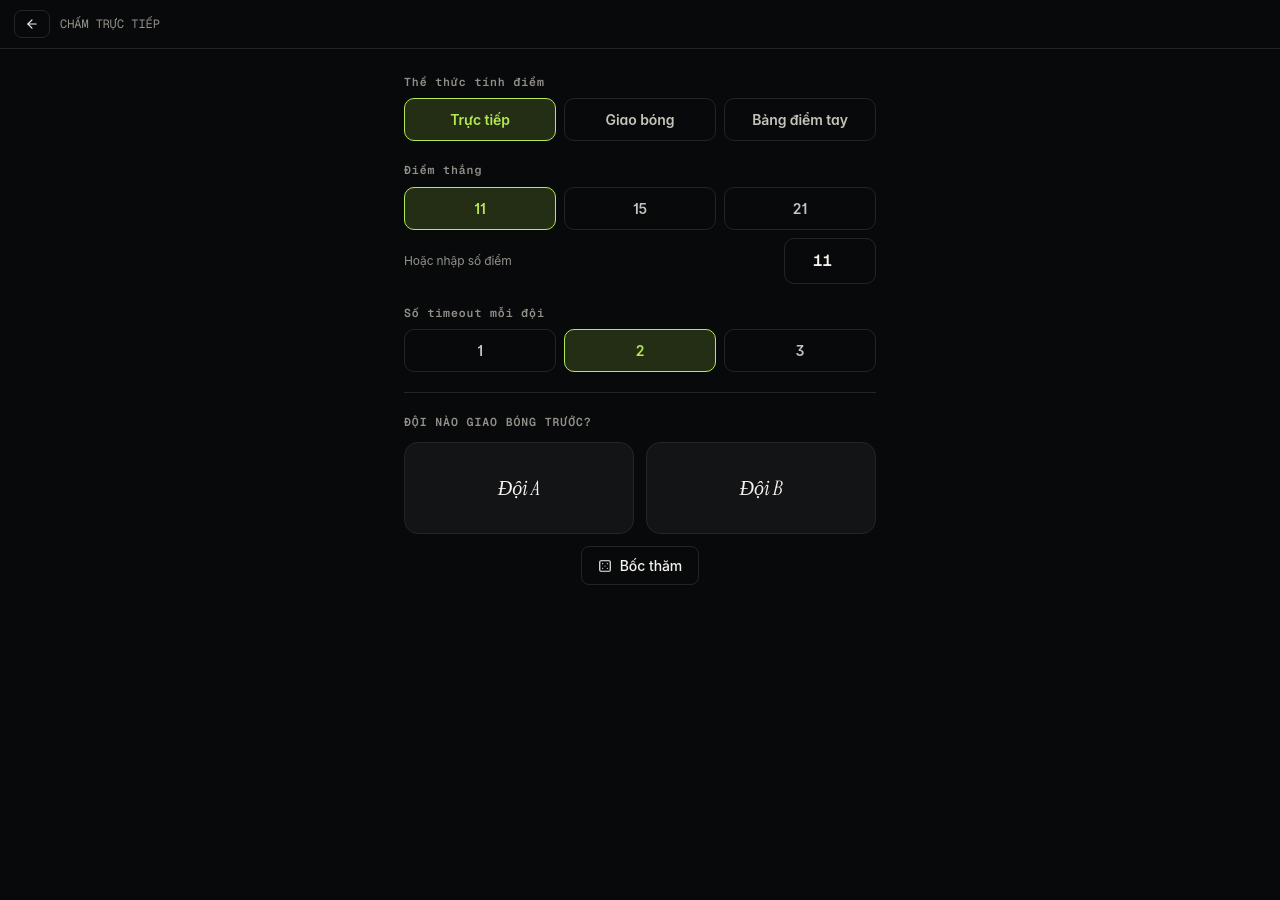
Scenario: RefereeScoringScreen › bắt đầu trận: chọn đội giao rồi BẮT ĐẦU thì claim live rồi mới ghi điểm
Later steps or results of the test are not shown.
Click the button "Đội A".
click(519, 488)  # box [404,442,634,534]
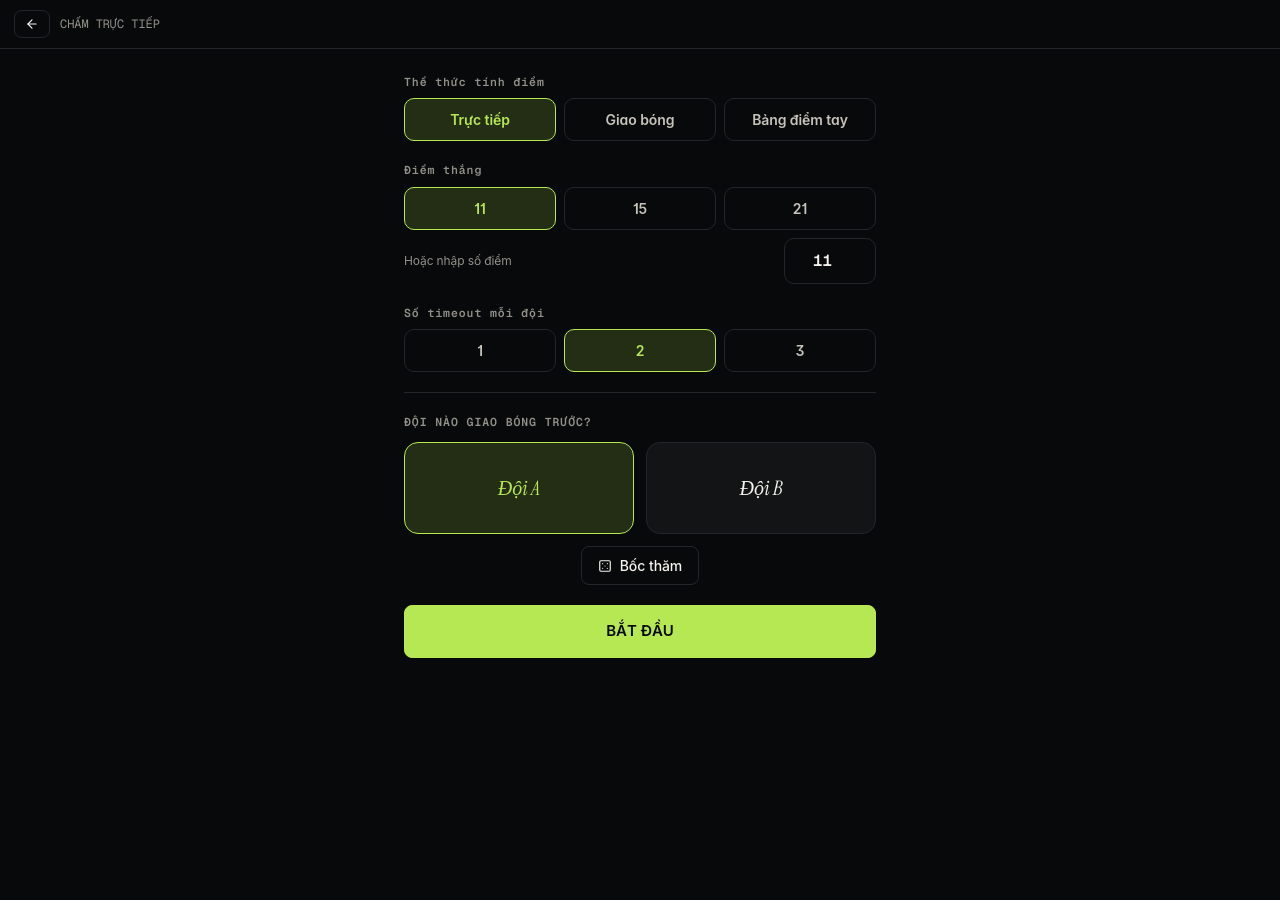
Click the button "BẮT ĐẦU".
click(640, 631)  # box [404,605,876,658]
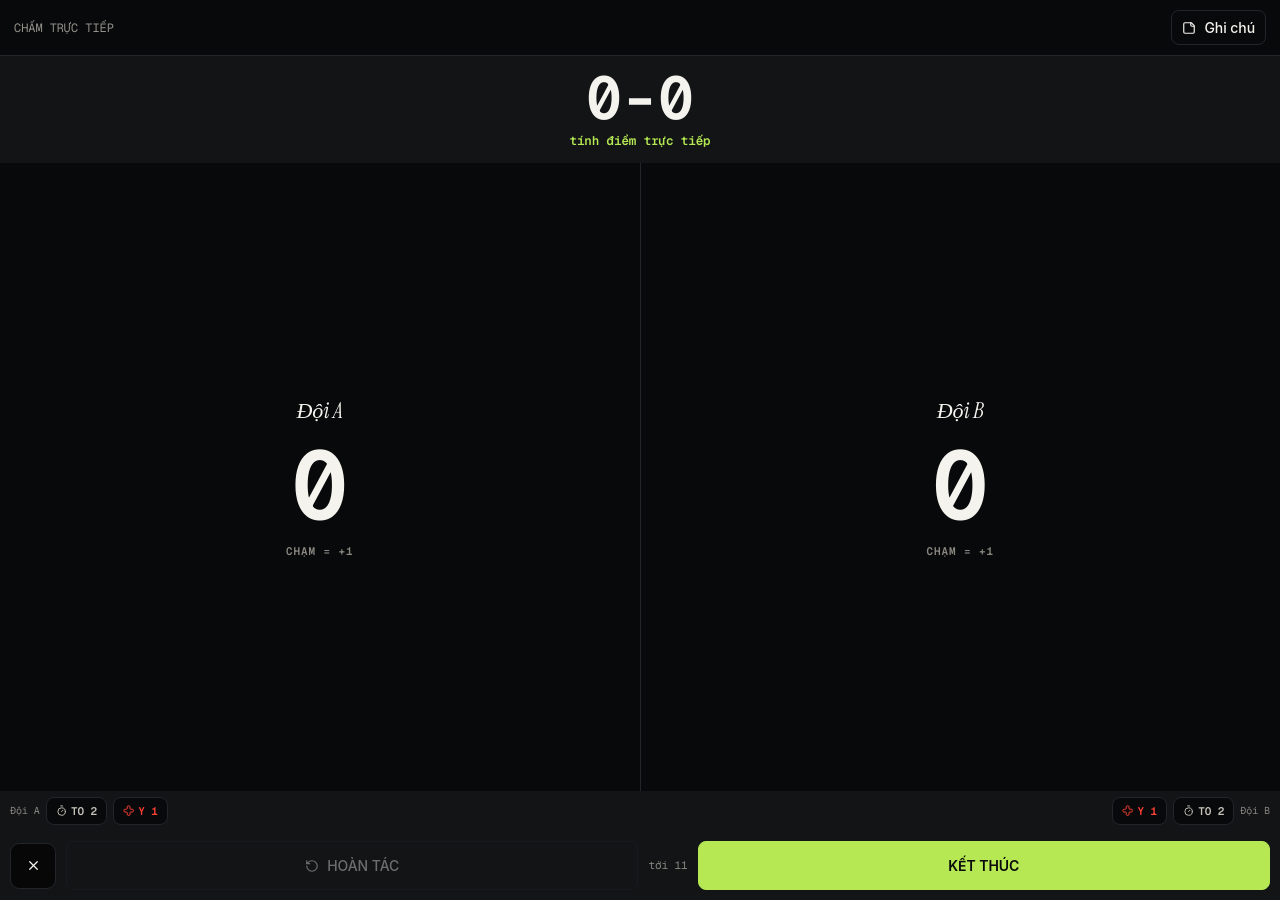
Now the button "KẾT THÚC" is shown, box [698,841,1270,890]
